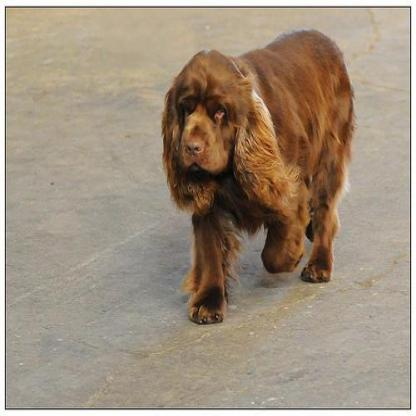Sussex_spaniel: (159, 25, 354, 323)
